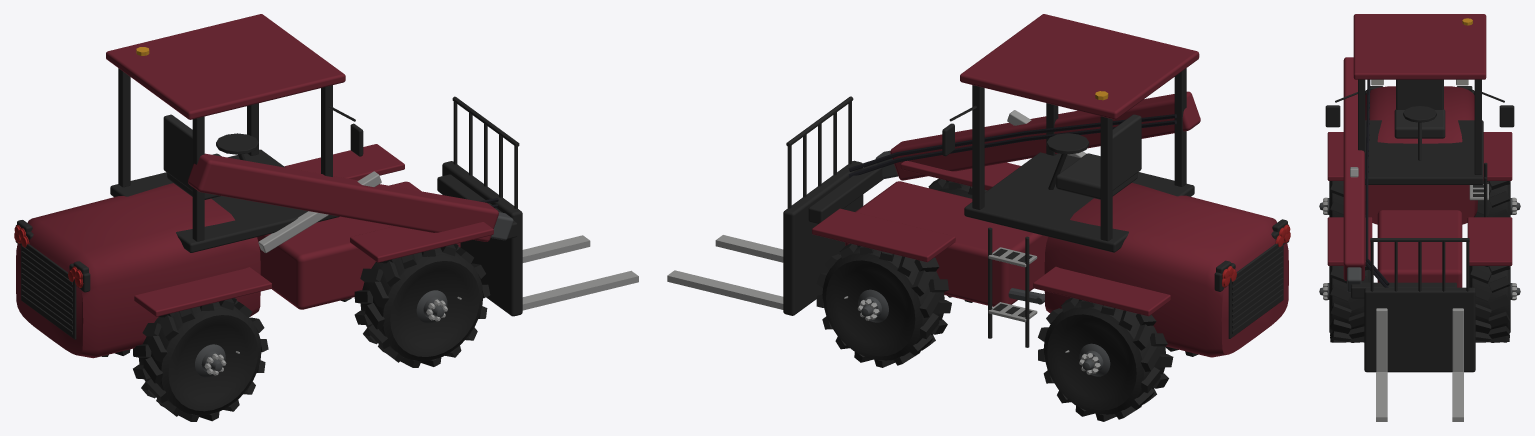
The model's file is SM_Prop_farm_loader_1.glb.
3 views of the same model, side by side, from view 1: azimuth 30°, elevation 25°; view 2: azimuth 150°, elevation 25°; view 3: azimuth 270°, elevation 25° (orthographic). The views are drawn at different scales.
Visible parts, largest first — view 1: SM_Prop_farm_loader_1; view 2: SM_Prop_farm_loader_1; view 3: SM_Prop_farm_loader_1.
Part boxes in pixels (x1=…): SM_Prop_farm_loader_1: x1=14, y1=14, x2=638, y2=421; SM_Prop_farm_loader_1: x1=667, y1=14, x2=1290, y2=421; SM_Prop_farm_loader_1: x1=1319, y1=14, x2=1520, y2=421.
Bounding box in the file's own units: 4.84 × 2.49 × 1.9.
